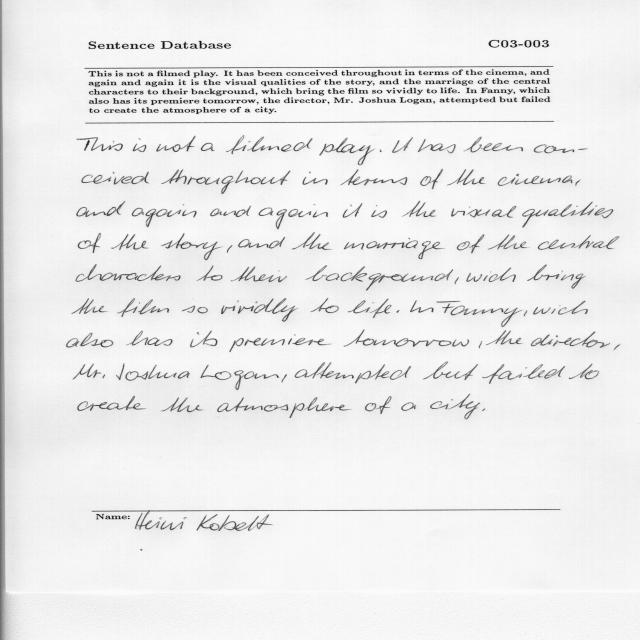word: (305, 265, 453, 291), (161, 170, 291, 194), (410, 300, 523, 327), (217, 397, 352, 418), (295, 362, 411, 384), (522, 202, 613, 228), (344, 330, 469, 347), (344, 238, 443, 259), (201, 365, 280, 390), (229, 334, 332, 352), (221, 298, 298, 322), (76, 265, 181, 282), (258, 204, 328, 229), (161, 233, 222, 260), (483, 364, 565, 384), (226, 136, 313, 154), (319, 138, 375, 165), (132, 204, 197, 227), (527, 265, 586, 289), (531, 331, 610, 348), (116, 363, 190, 381), (430, 394, 480, 419), (538, 235, 619, 250), (340, 170, 407, 186), (78, 396, 146, 411), (423, 362, 478, 380), (117, 298, 169, 317), (498, 174, 572, 186), (464, 137, 523, 152), (82, 172, 149, 185), (231, 267, 287, 282), (348, 299, 391, 318), (77, 201, 126, 217), (533, 301, 588, 315), (292, 232, 332, 250), (451, 206, 516, 217), (466, 268, 516, 282), (67, 333, 113, 348), (127, 331, 173, 346), (447, 169, 485, 186), (161, 397, 204, 412), (77, 138, 123, 152), (157, 136, 196, 152), (111, 234, 149, 250), (488, 235, 527, 250), (72, 298, 107, 314), (486, 330, 523, 345), (402, 201, 436, 217), (418, 139, 456, 153), (238, 237, 285, 248), (457, 234, 484, 253), (73, 364, 105, 380), (210, 205, 251, 217), (534, 145, 588, 154), (365, 396, 392, 414), (420, 169, 443, 189), (78, 233, 101, 253), (569, 364, 599, 379), (310, 298, 339, 313), (190, 331, 217, 347), (197, 265, 223, 281), (392, 137, 413, 153), (303, 172, 328, 185), (343, 203, 362, 218), (371, 205, 387, 218), (182, 306, 208, 314), (133, 138, 146, 152), (401, 402, 416, 411), (201, 143, 214, 151), (281, 374, 287, 383), (227, 245, 232, 253), (576, 179, 581, 186), (454, 277, 459, 284), (614, 345, 620, 350), (524, 311, 528, 317), (479, 341, 482, 348), (397, 310, 400, 313), (482, 408, 485, 411), (380, 150, 382, 152), (372, 302, 374, 303)
